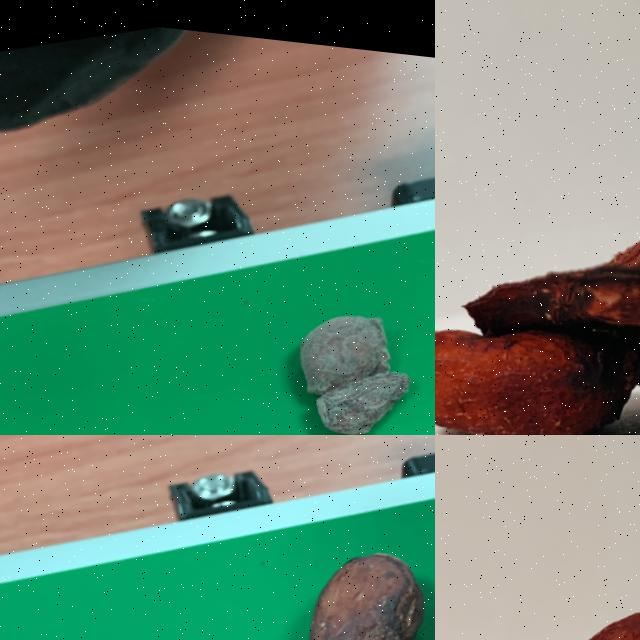Agglomerated_cocoabeans: (435, 86, 639, 434), (211, 233, 434, 434), (435, 487, 639, 639)
Fine_cocoabeans: (208, 487, 434, 639)
